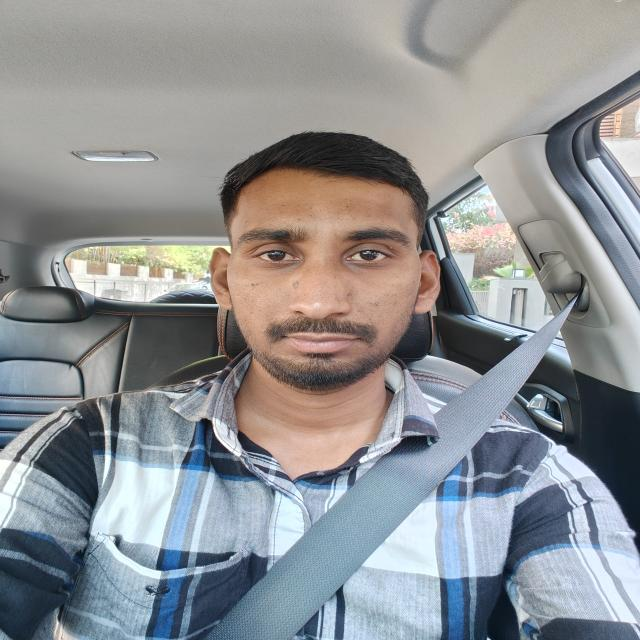seatbelt: (209, 272, 618, 640)
